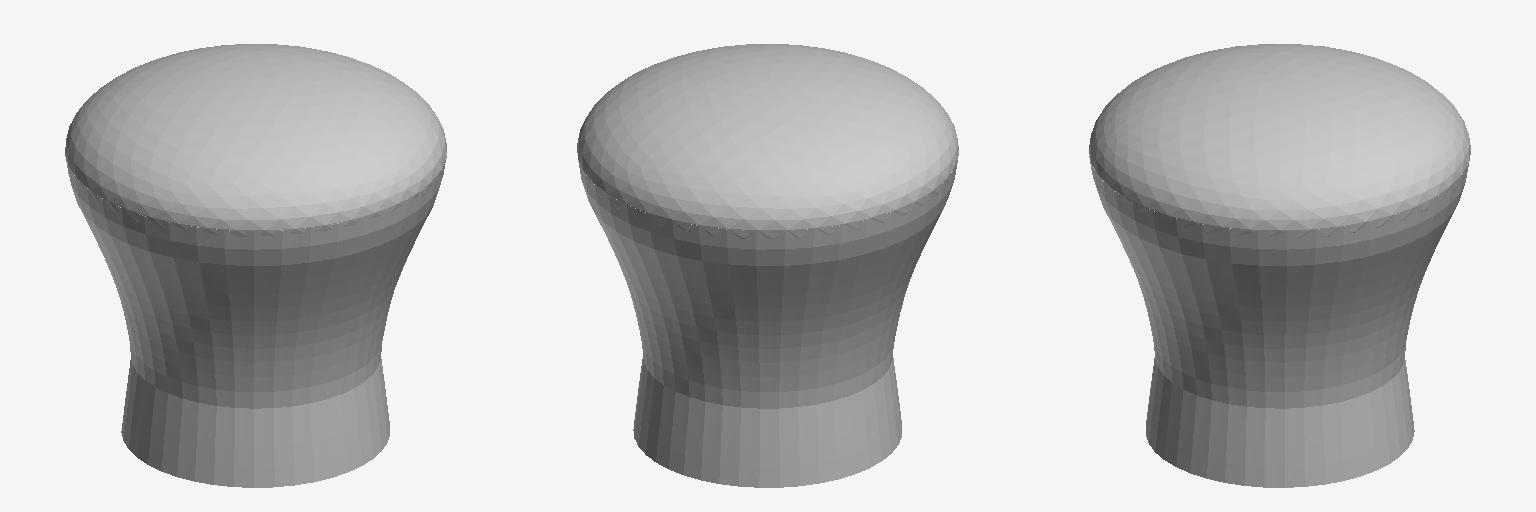
Rendered from bumper.obj.
3 views of the same model, side by side, from view 1: azimuth 30°, elevation 25°; view 2: azimuth 150°, elevation 25°; view 3: azimuth 270°, elevation 25° (orthographic).
Visible parts, largest first — view 1: Cylinder_Cylinder.001; view 2: Cylinder_Cylinder.001; view 3: Cylinder_Cylinder.001.
Part boxes in pixels (left/top/right/bottom): Cylinder_Cylinder.001: left=65, top=44, right=446, bottom=487; Cylinder_Cylinder.001: left=577, top=44, right=958, bottom=487; Cylinder_Cylinder.001: left=1089, top=44, right=1470, bottom=487.
Size of the model in its own units: 2.63 by 2.65 by 2.63.